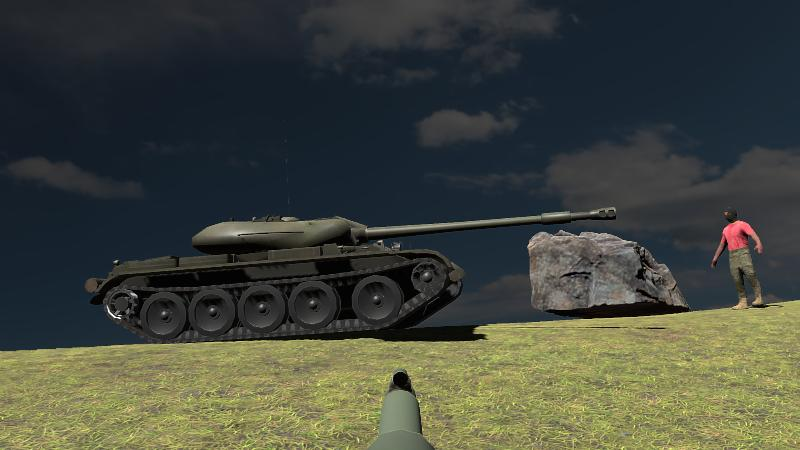Human: (711, 207, 763, 310)
Tank: (85, 208, 615, 346)
